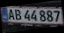character: (52, 9, 60, 22), (38, 9, 46, 21), (46, 9, 53, 22), (23, 9, 31, 20), (14, 8, 21, 20), (30, 9, 37, 21), (8, 8, 14, 20)
